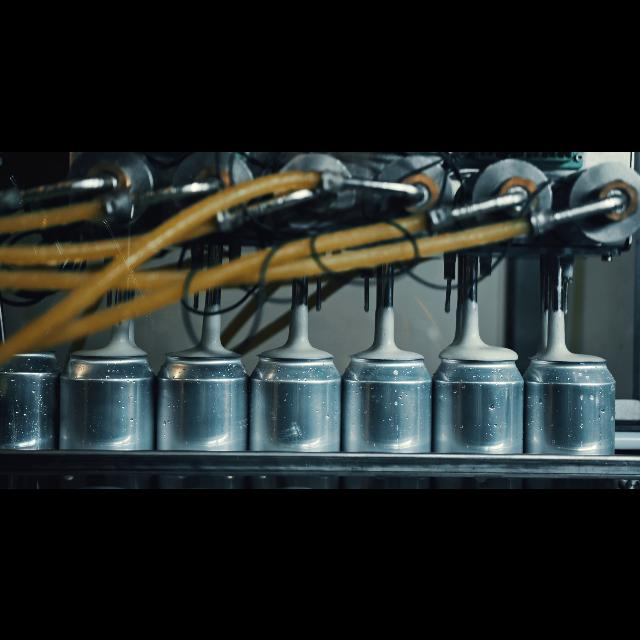empty: (4, 334, 56, 488)
full: (526, 336, 618, 488), (62, 330, 150, 488), (342, 332, 428, 488), (436, 332, 522, 488), (157, 336, 245, 488), (252, 334, 338, 488)
